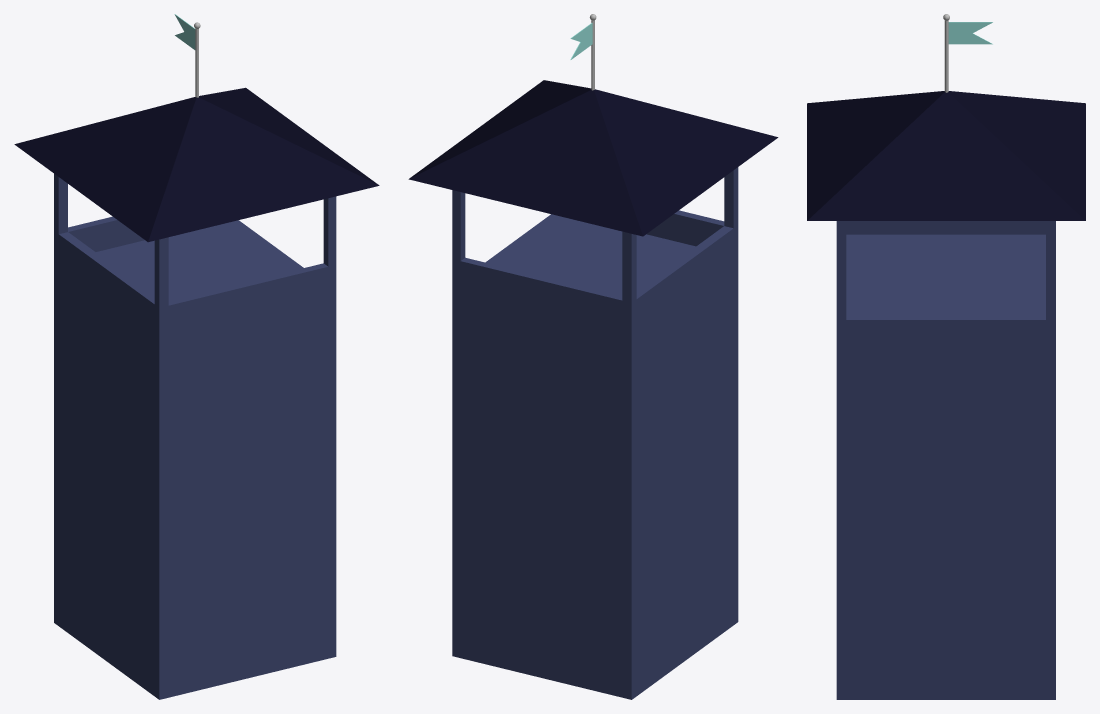
Rendered from house4.fbx.
The picture shows the model from 3 angles, left to right: view 1: azimuth 30°, elevation 25°; view 2: azimuth 150°, elevation 25°; view 3: azimuth 270°, elevation 25°; orthographic projection. The views are drawn at different scales.
Parts seen in each view (by area): view 1: Cube, Cone; view 2: Cube, Cone; view 3: Cube, Cone, Cube.001.
Boxes of the visible parts, bbox=[...] form: Cube: bbox=[54, 174, 336, 699]; Cone: bbox=[14, 87, 379, 242]; Cube: bbox=[452, 167, 738, 699]; Cone: bbox=[408, 80, 778, 236]; Cube: bbox=[836, 221, 1055, 699]; Cone: bbox=[807, 91, 1085, 220]; Cube.001: bbox=[948, 22, 992, 44].
Size of the model in its own units: 2694 by 6845 by 2694.
